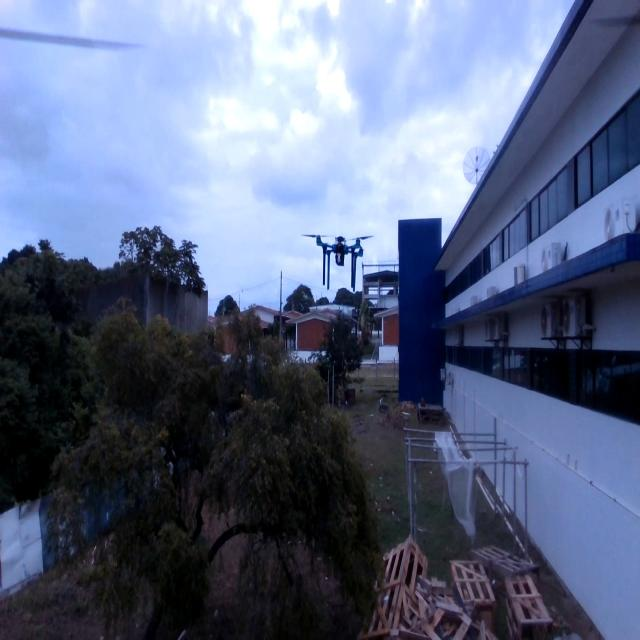-uav-: (294, 213, 394, 308)
